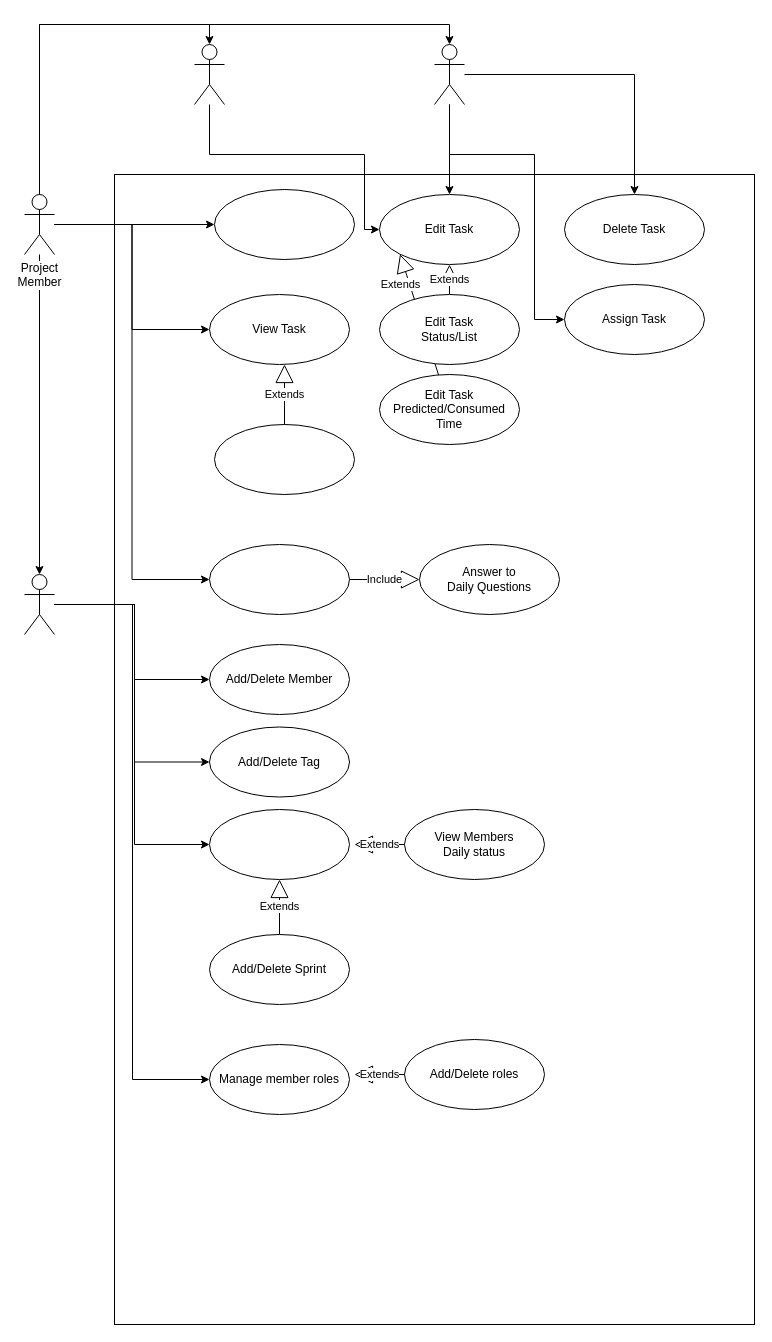
The diagram is 772 pixels wide and 1342 high, and some of its shapes have lost their labels. Here are the shapes that lost their labels. From the top down, the box of each, then its label:
(194, 44, 224, 104): Task Assignee
(434, 44, 464, 104): Task Owner
(214, 188, 354, 260): Add Task
(214, 424, 354, 494): View Task Activities
(208, 544, 350, 614): Participate in daily meetings
(24, 574, 54, 634): Project Admin
(208, 808, 350, 880): Manage Sprint
